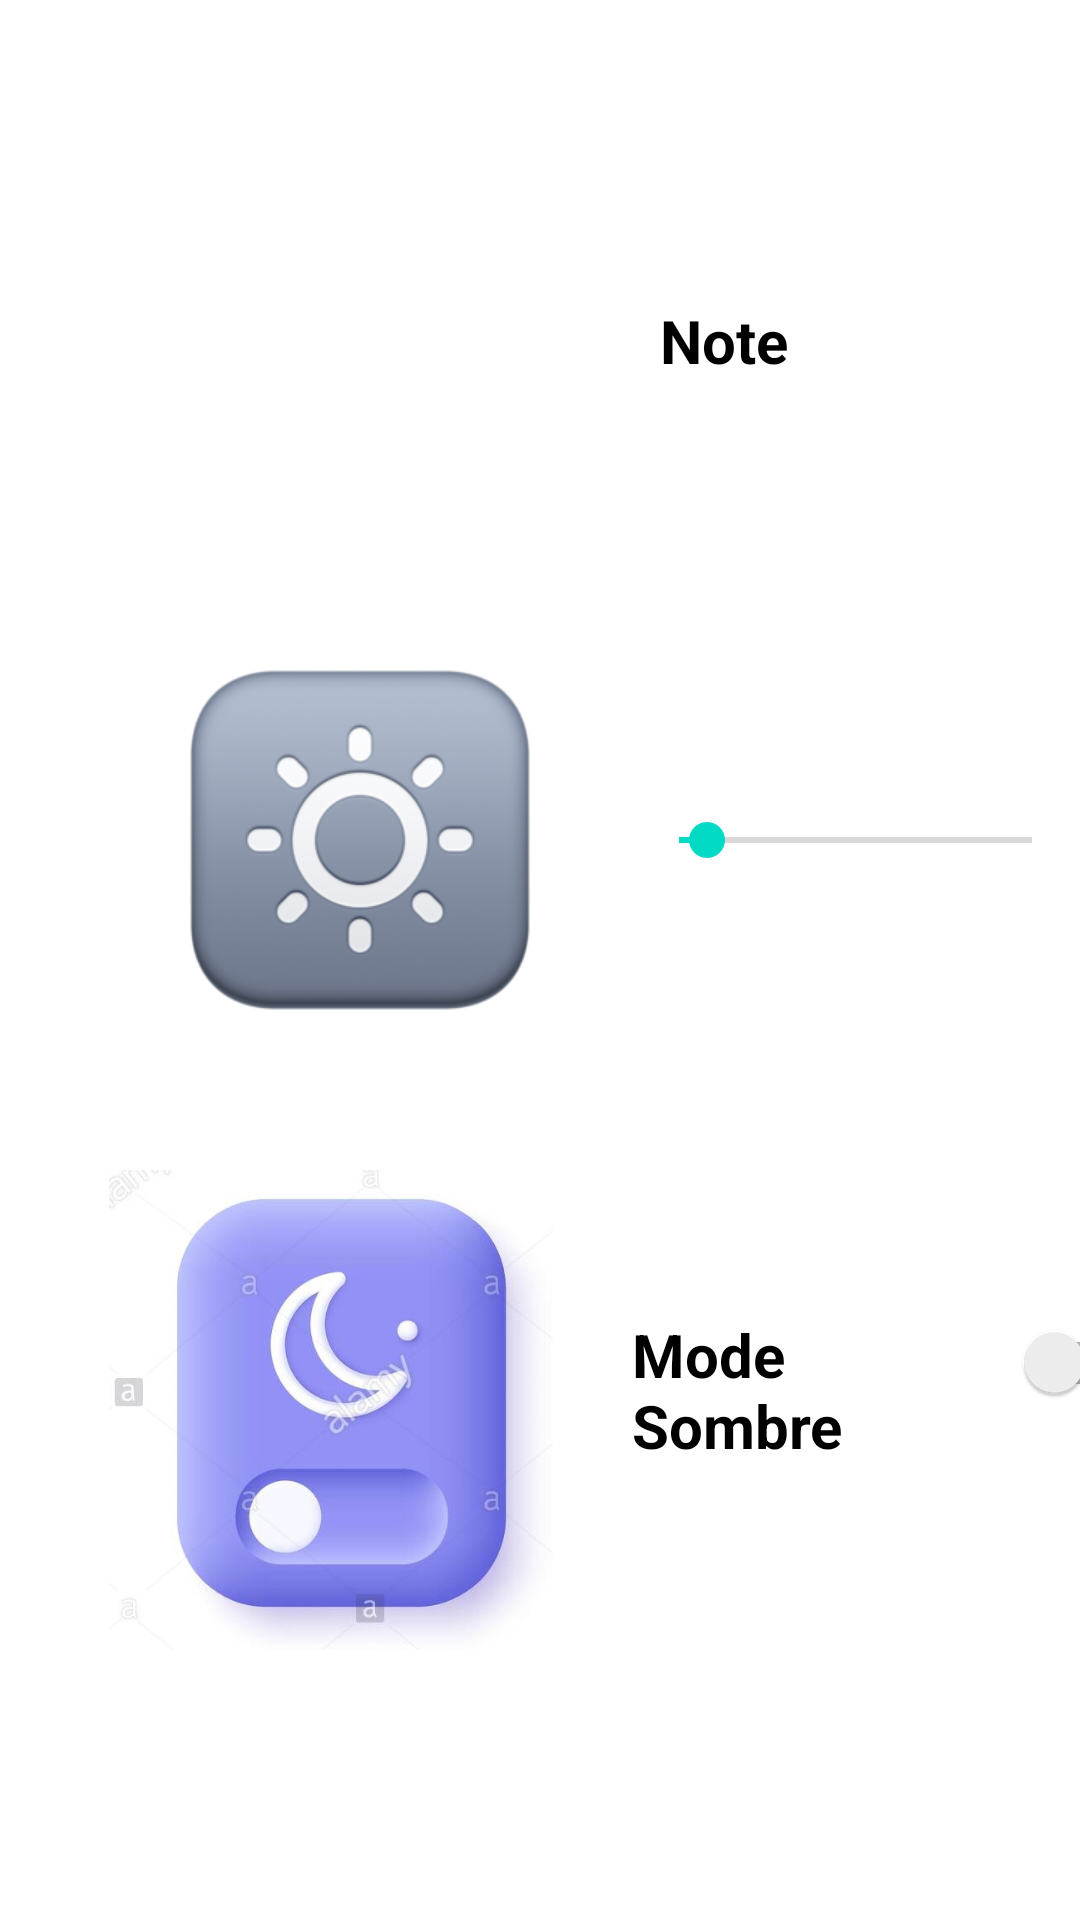

Screen size 1080 × 1920. Icon name, then its box in pixels as [x1,y1,x2,y2]:
lumunosite: [190,670,530,1010]
